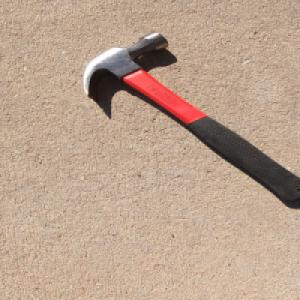Hammer: (80, 30, 300, 210)
